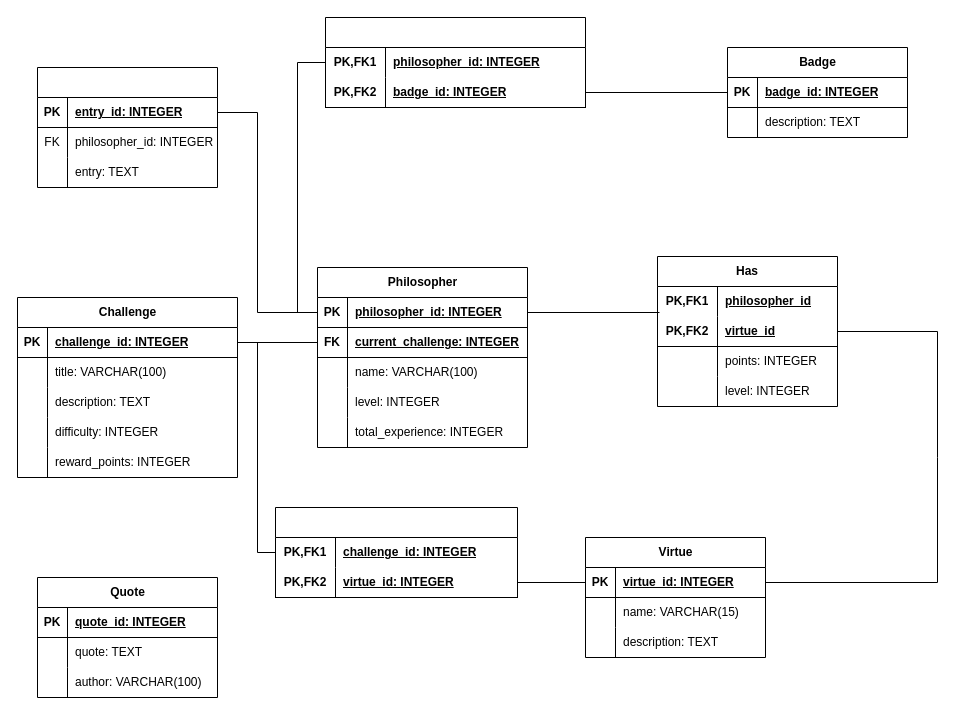
This 956x715 diagram has some shape labels left out. The shapes that lost their labels are listed below. From the top down, each one's box as (x1, y1, x2, y2) in pixels, then its label:
(324, 16, 586, 108): Owns
(36, 66, 218, 188): Journal
(274, 506, 518, 598): Increments
